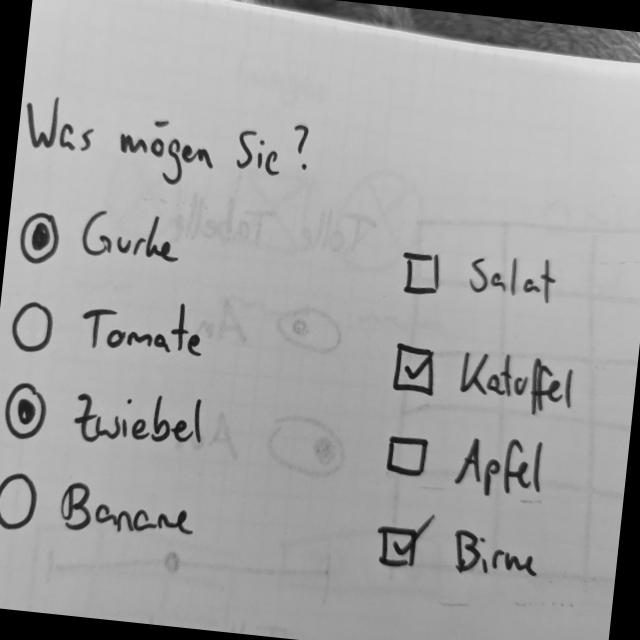checkbox: (388, 337, 582, 428), (380, 420, 550, 507), (371, 509, 544, 590), (400, 242, 562, 314)
label: (15, 91, 321, 207)
radio: (1, 375, 211, 461), (9, 287, 209, 373), (1, 471, 202, 553), (15, 197, 188, 286)
